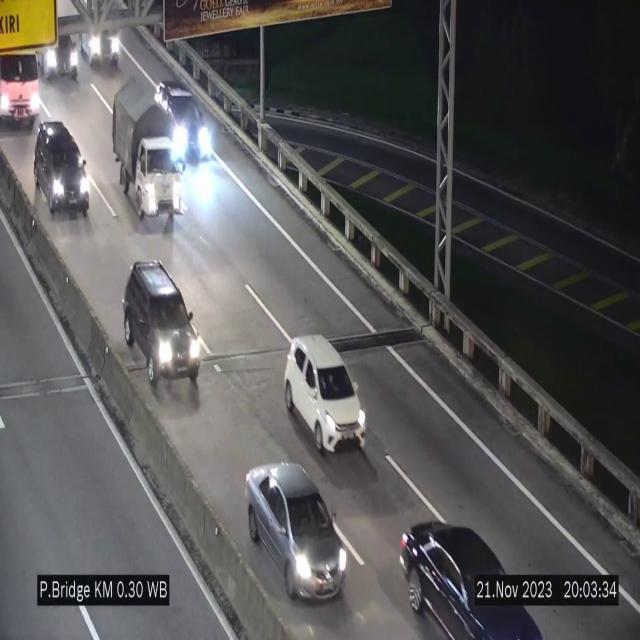Car: (246, 462, 347, 600), (285, 335, 367, 453), (123, 260, 198, 388), (28, 116, 92, 218), (154, 77, 213, 164)
Truck: (107, 72, 187, 228)
